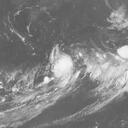cyclone: (48, 43, 81, 90)
